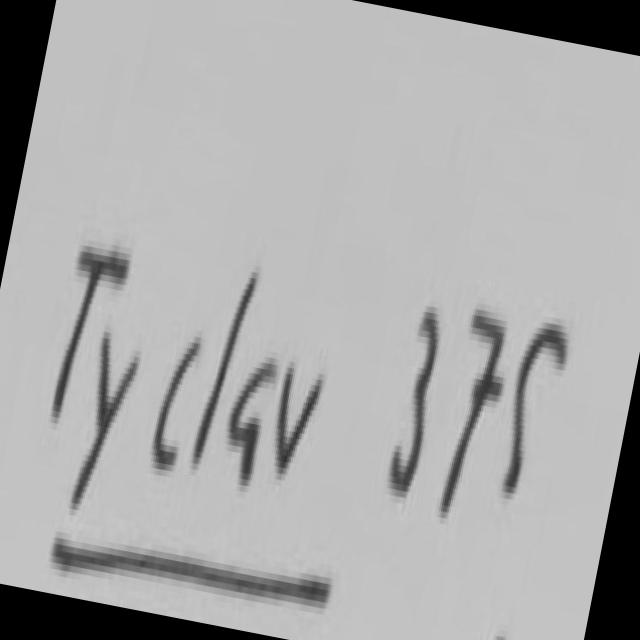3: (389, 307, 438, 498)
5: (495, 325, 566, 506)
7: (446, 310, 504, 515)
T: (53, 254, 128, 415)
a: (229, 354, 275, 492)
c: (153, 344, 199, 468)
l: (196, 279, 255, 461)
v: (277, 372, 322, 471)
y: (73, 341, 136, 507)
